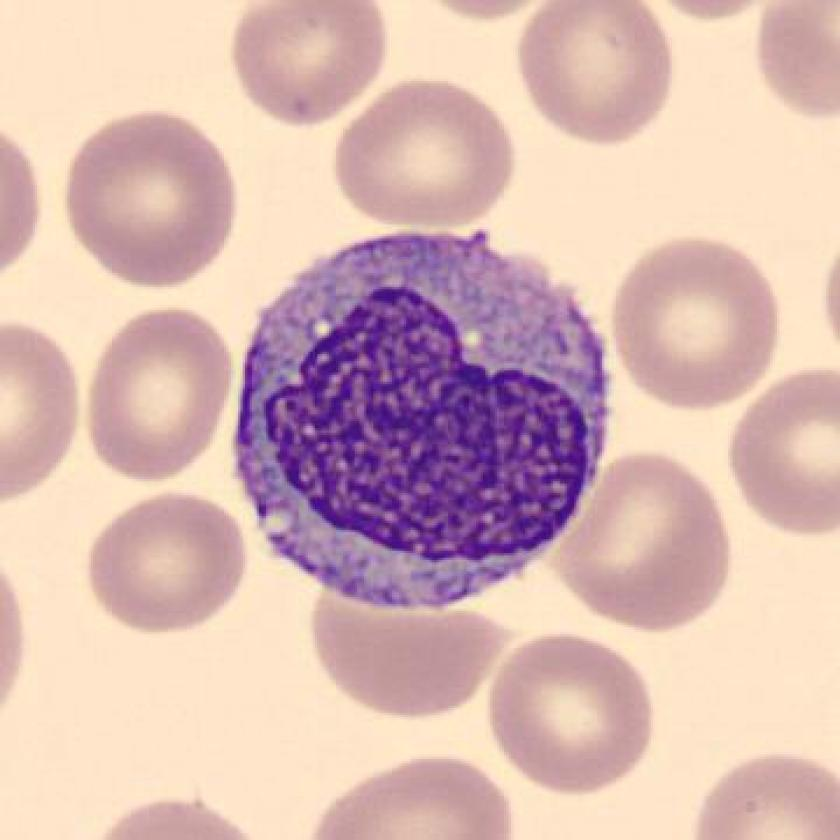monocyte: (213, 214, 631, 635)
